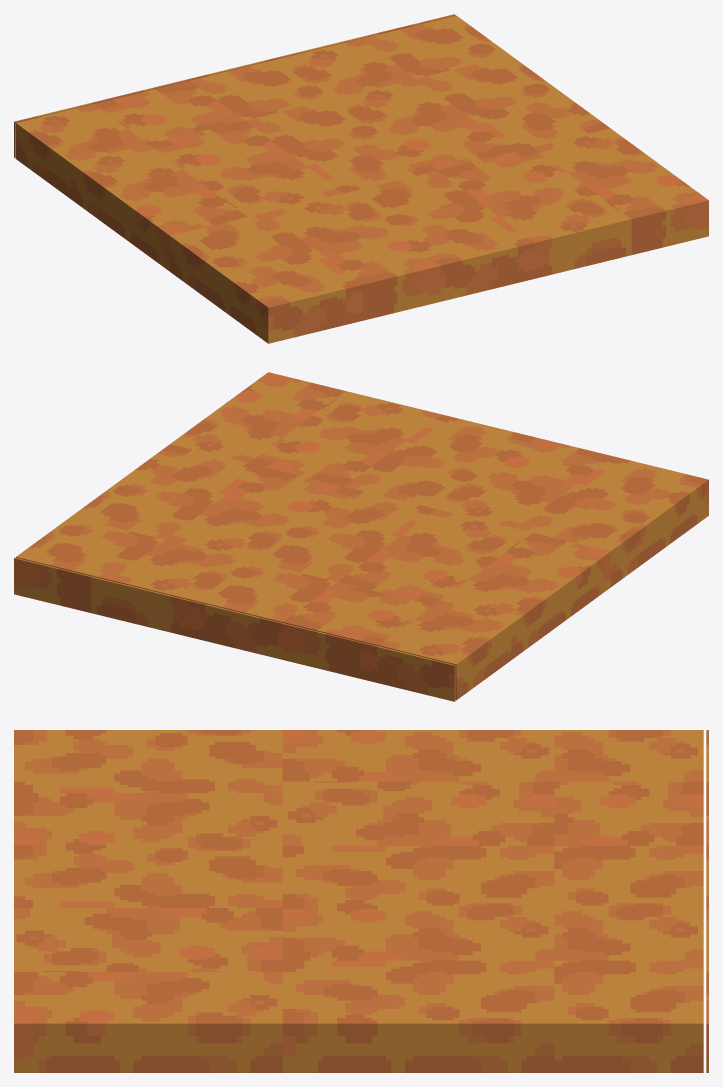
Rendered from Desert.obj.
3 views of the same model, one above another, from view 1: azimuth 30°, elevation 25°; view 2: azimuth 150°, elevation 25°; view 3: azimuth 270°, elevation 25° (orthographic). The views are drawn at different scales.
Size of the model in its own units: 25.6 by 2 by 25.6.
1 material, 1 textured.
